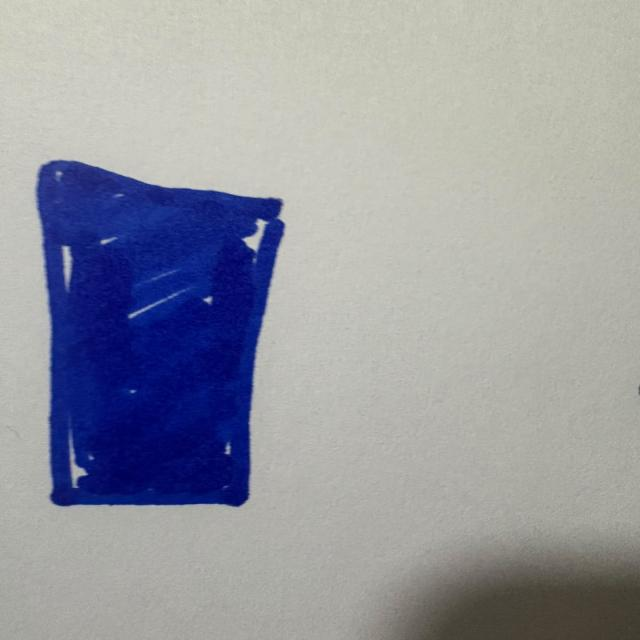Rectangle: (28, 157, 296, 513)
